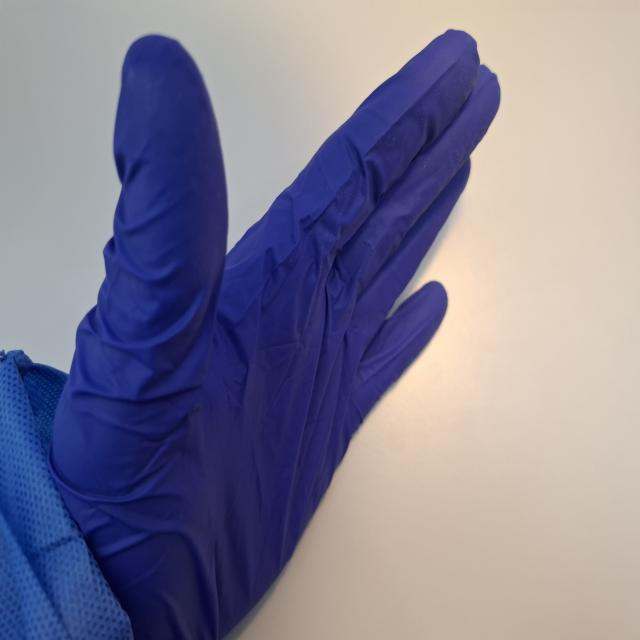glove_on: (43, 24, 504, 640)
